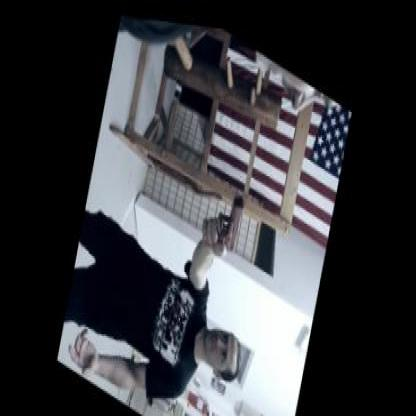pistol: (200, 167, 247, 258)
